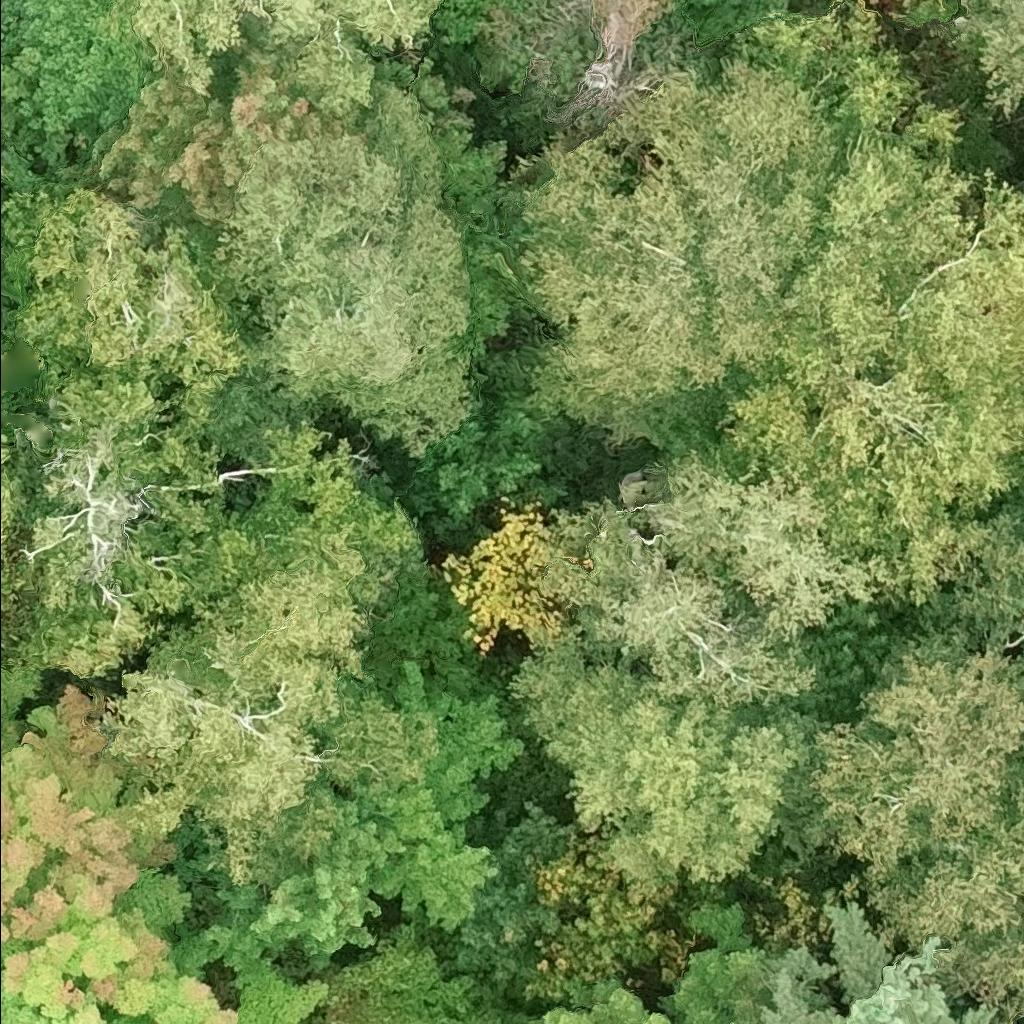crown: (503, 1, 920, 451), (712, 95, 1023, 603), (0, 372, 423, 676), (172, 659, 531, 1005), (100, 557, 439, 885), (204, 82, 477, 458), (505, 620, 833, 885), (52, 16, 354, 256), (536, 496, 821, 707), (807, 618, 1023, 888), (629, 442, 914, 643), (0, 655, 193, 951), (0, 181, 252, 389), (0, 870, 338, 1023), (862, 757, 1023, 1019), (133, 0, 447, 117), (762, 886, 1016, 1023), (438, 798, 594, 995), (0, 0, 150, 176), (313, 922, 539, 1023), (531, 829, 679, 983), (438, 494, 576, 656), (907, 508, 1023, 654), (654, 899, 771, 1023), (950, 0, 1023, 118), (530, 975, 680, 1023), (686, 0, 838, 42), (0, 434, 27, 645), (432, 0, 534, 46), (834, 0, 880, 8), (893, 0, 941, 6), (0, 128, 3, 145), (734, 1022, 737, 1023)
